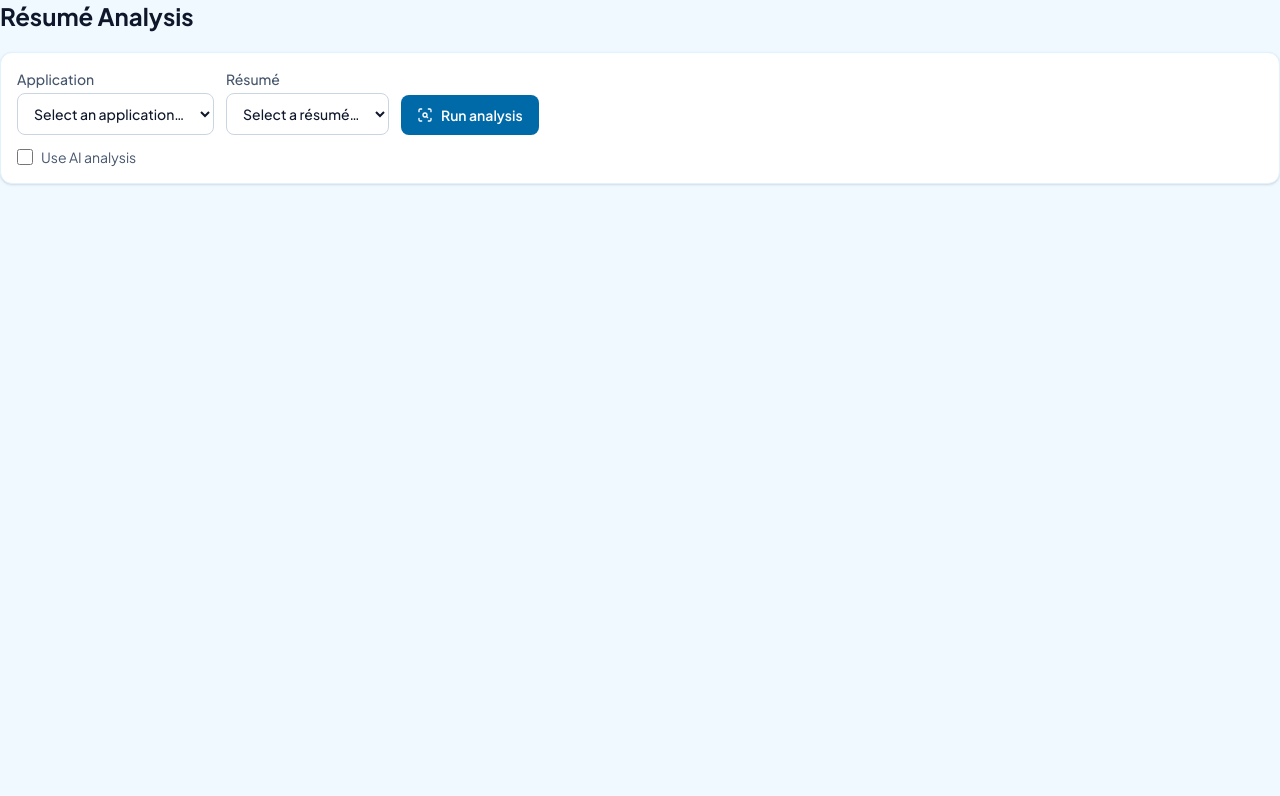
Test case: with AI available, checking the toggle posts useAi:true and shows the AI badge
The image size is (1280, 796).
expect the checkbox labelled "Use AI analysis" is enabled: met, box top-left (17, 149), bottom-right (33, 165)
Select "Backend Engineer" in the dropdown labelled "Application" at (116, 114), box top-left (17, 93), bottom-right (214, 135)
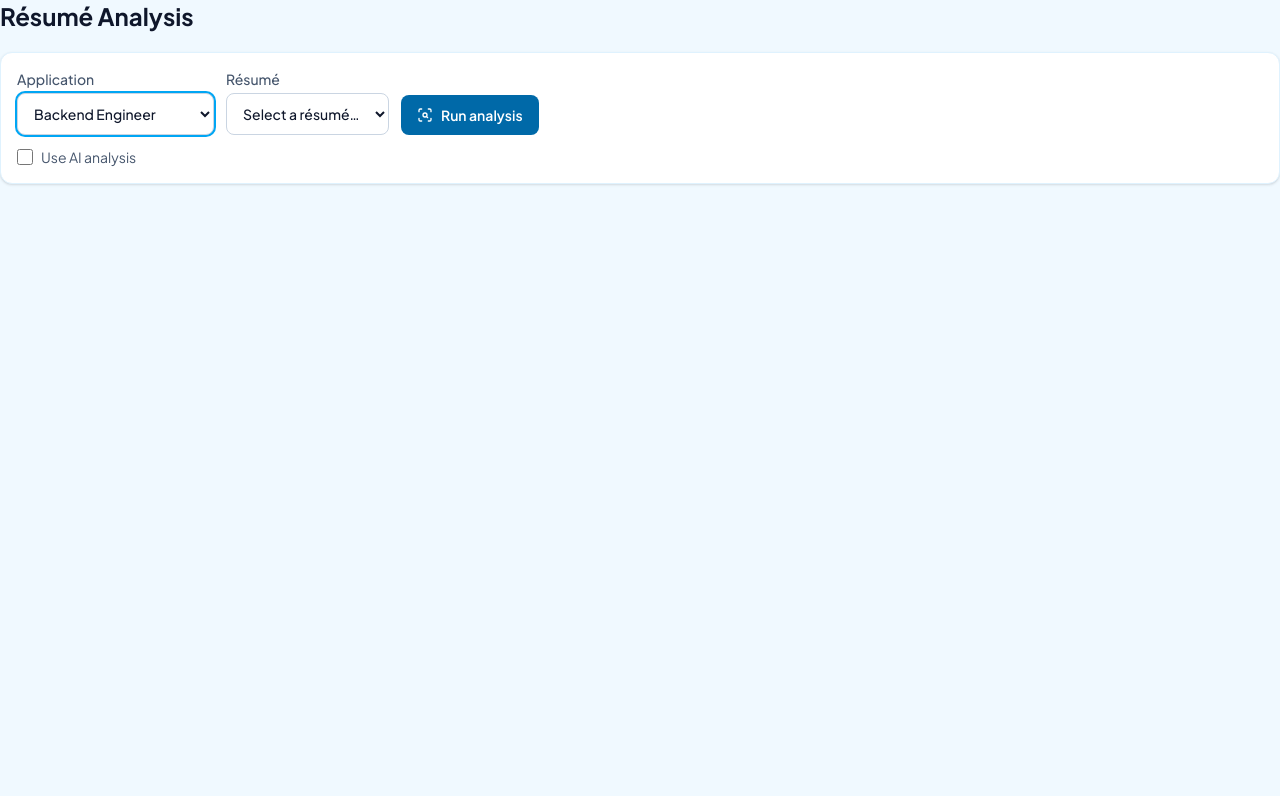
Select "Backend Resume" in the dropdown labelled "Résumé" at (308, 114), box top-left (226, 93), bottom-right (389, 135)
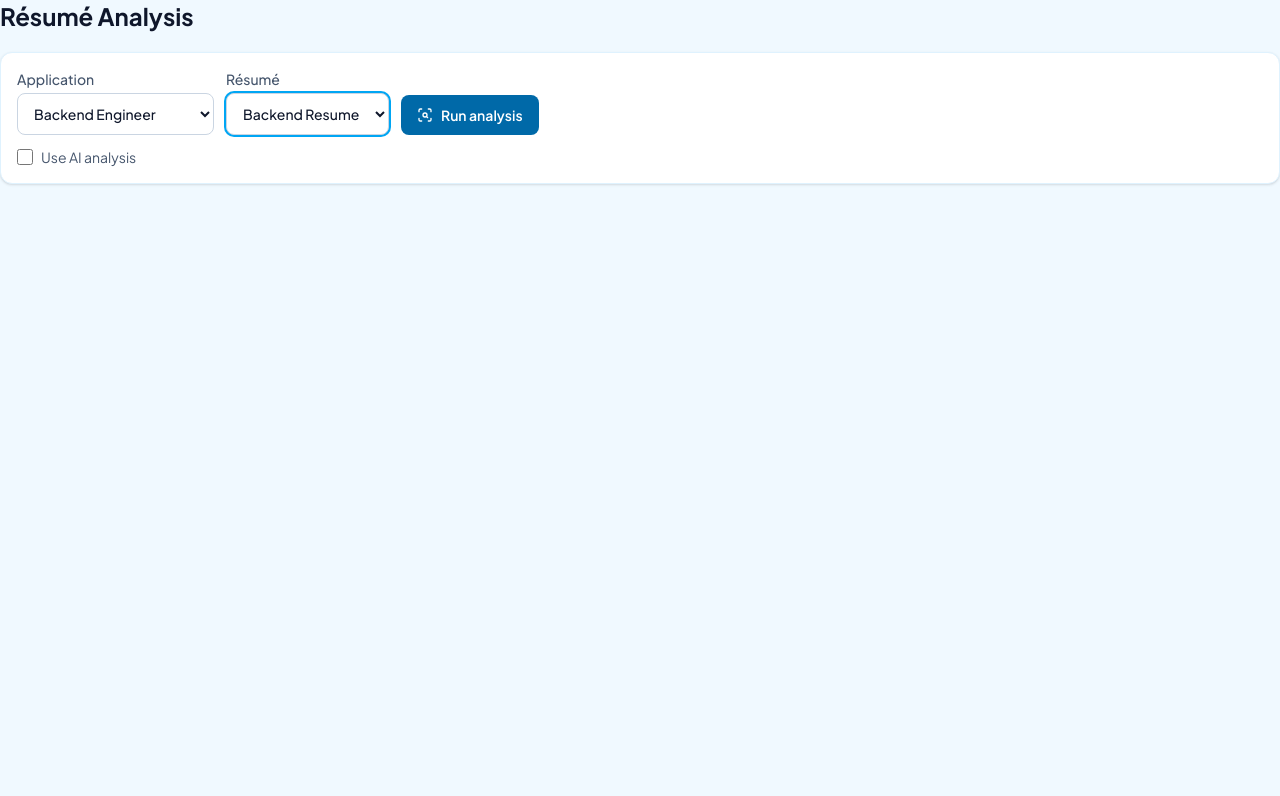
Click the checkbox labelled "Use AI analysis" at (25, 157), box top-left (17, 149), bottom-right (33, 165)
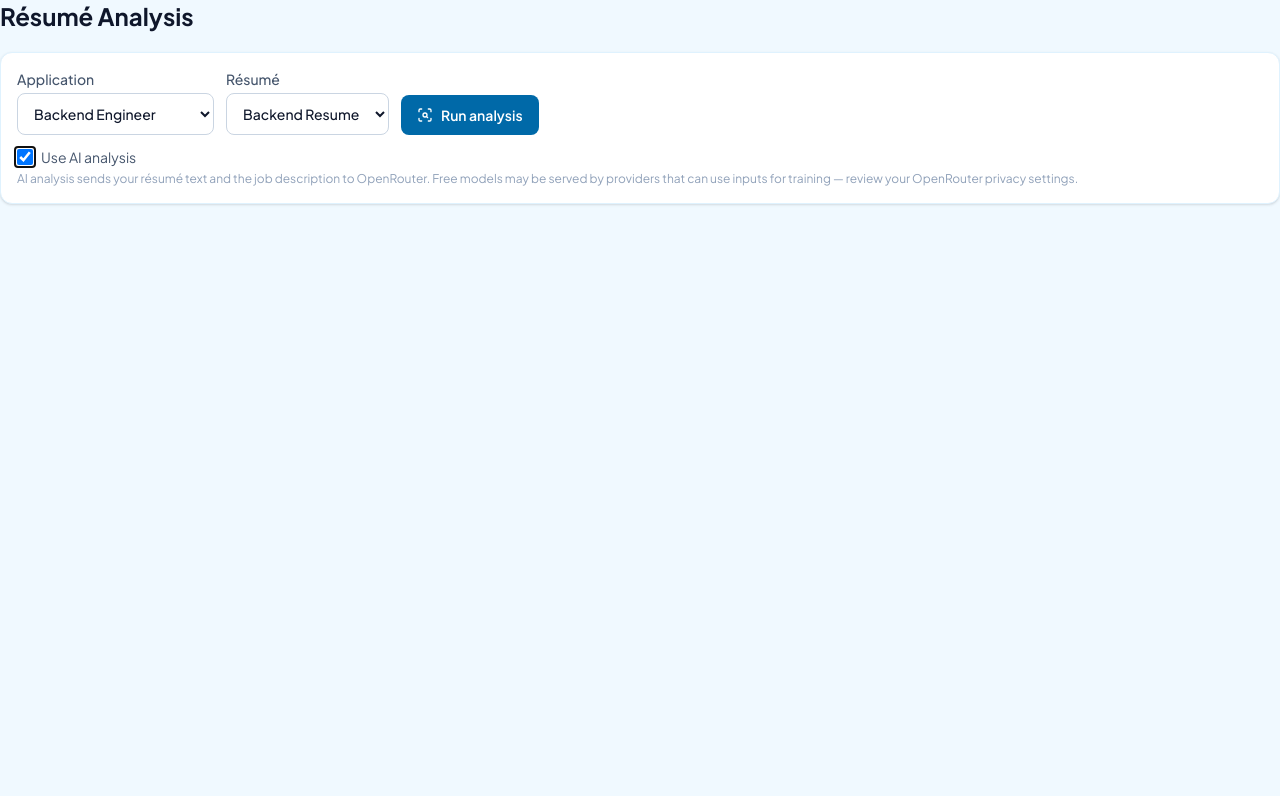
expect the text "sends your résumé text" is shown: met, box top-left (17, 171), bottom-right (1078, 186)
Click the button "Run analysis" at (470, 115), box top-left (401, 95), bottom-right (539, 135)
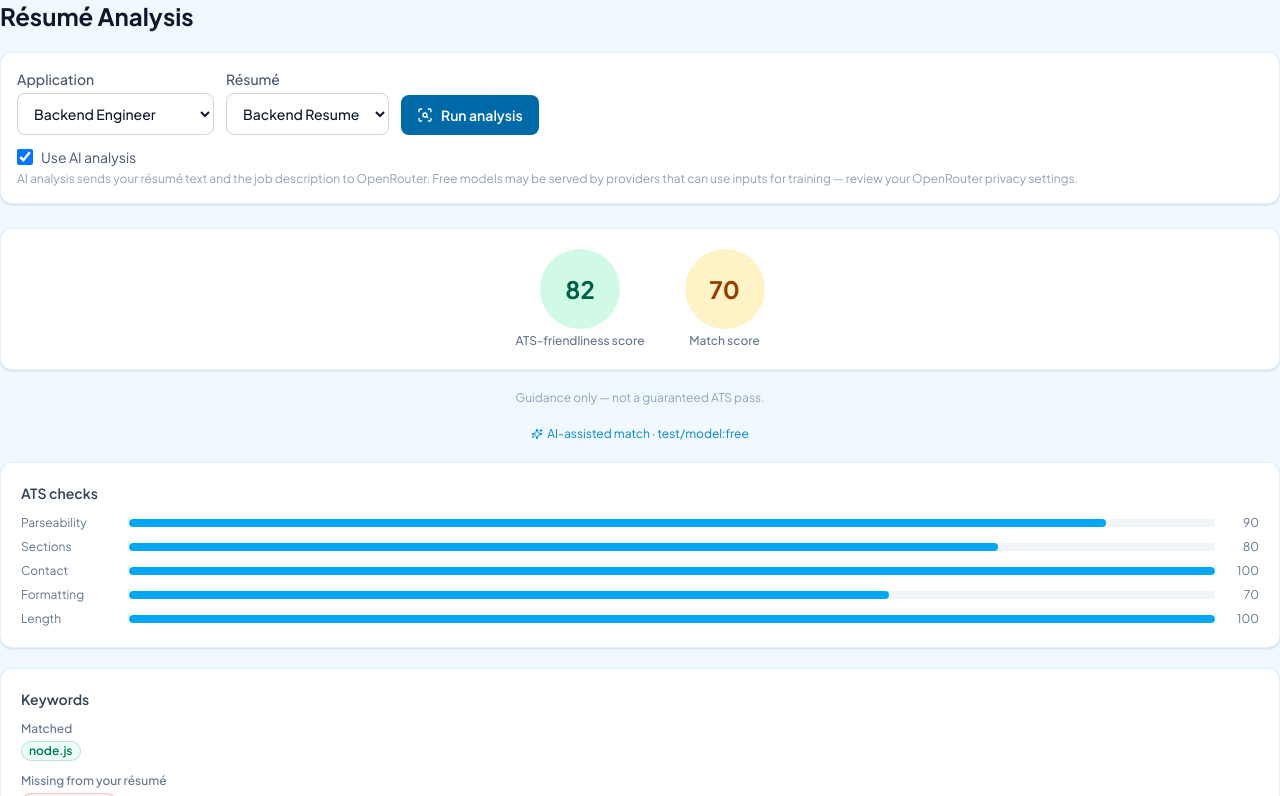
expect the text "AI-assisted match · test/model:free" is shown: met, box top-left (531, 426), bottom-right (749, 441)
